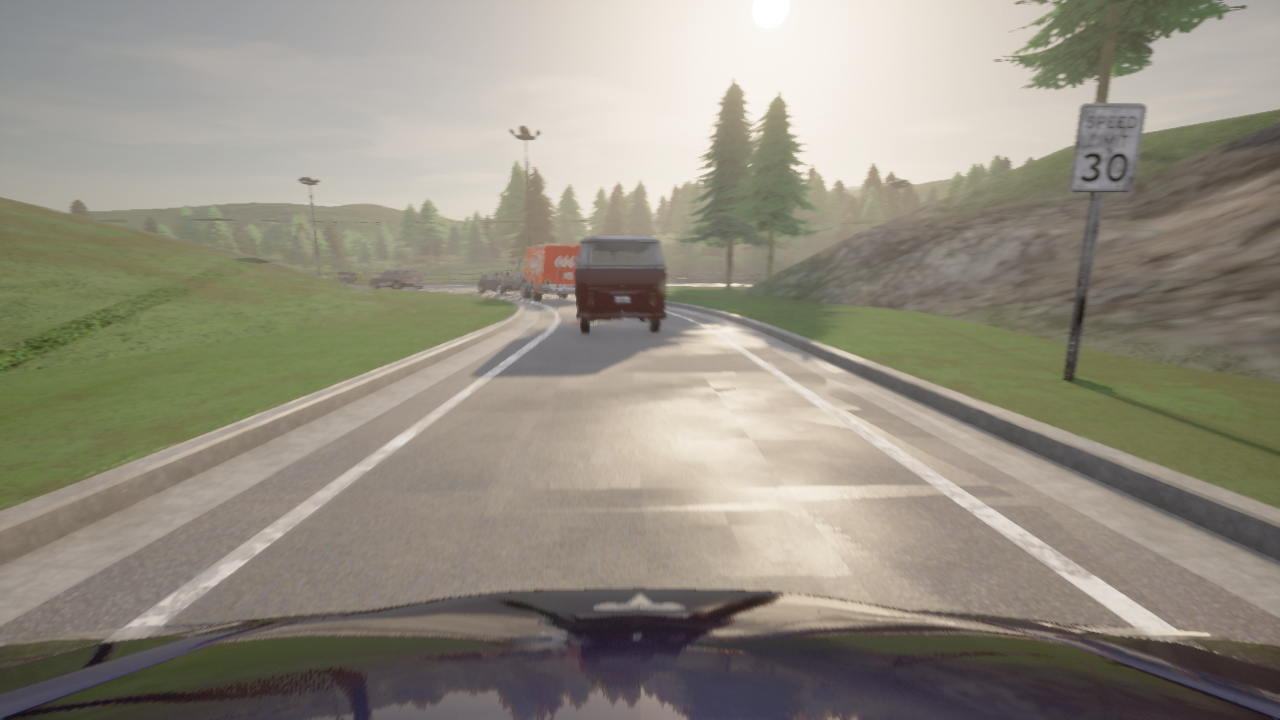cyclist: (0, 588, 1279, 719), (576, 235, 665, 332), (516, 244, 580, 300), (369, 268, 424, 289), (478, 269, 522, 294)
